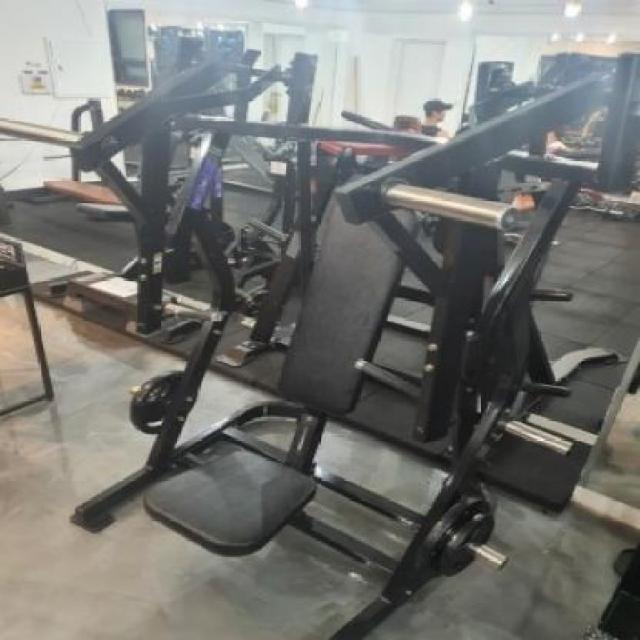Chest Press machine: (7, 41, 640, 640)
